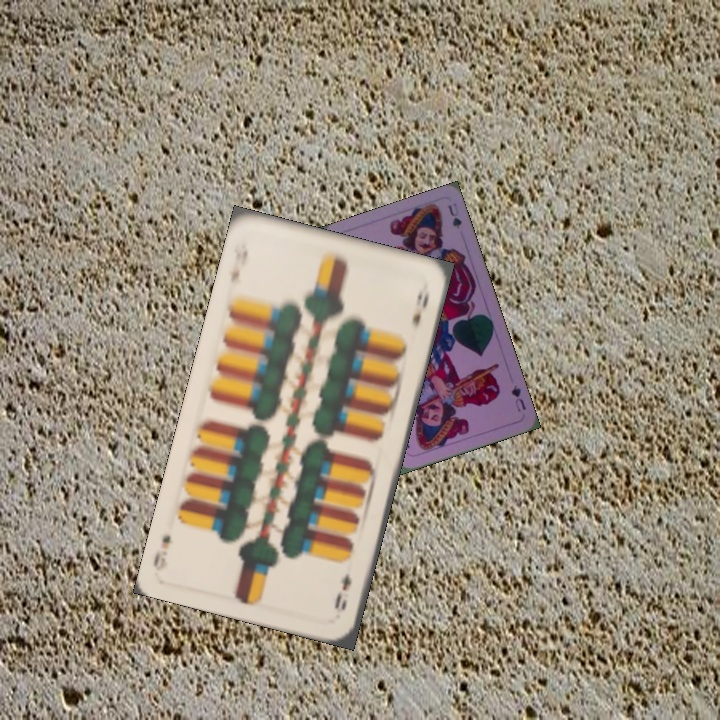E9: (225, 238, 251, 285), (330, 569, 354, 613)
GU: (507, 381, 528, 414)
